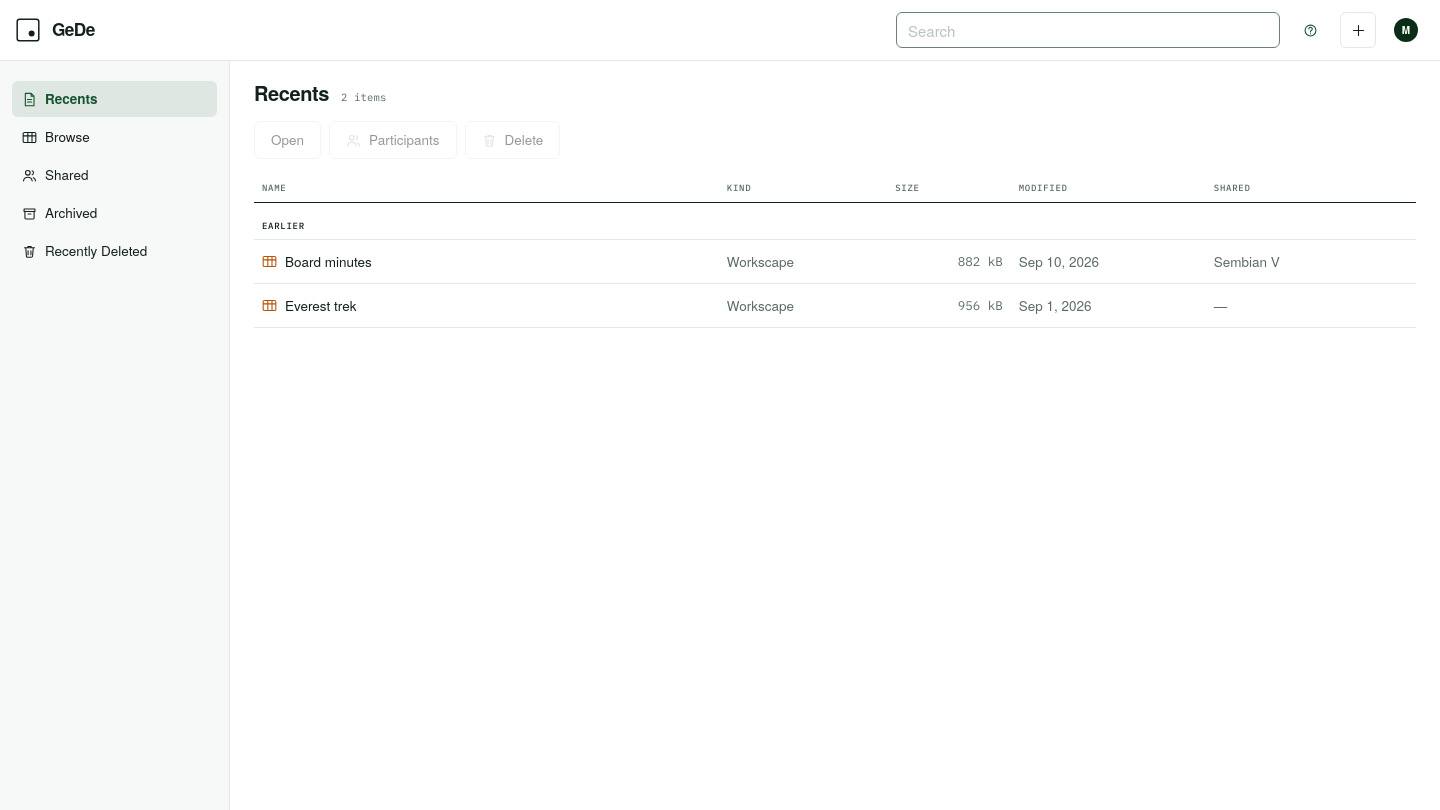
Test case: Library › LIB-03 LIB-04 a search that hides the selected row drops the selection: the count stays honest and the toolbar cannot act on an invisible row
Click the text "Everest trek" at (835, 306), box [254,284,1416,328]
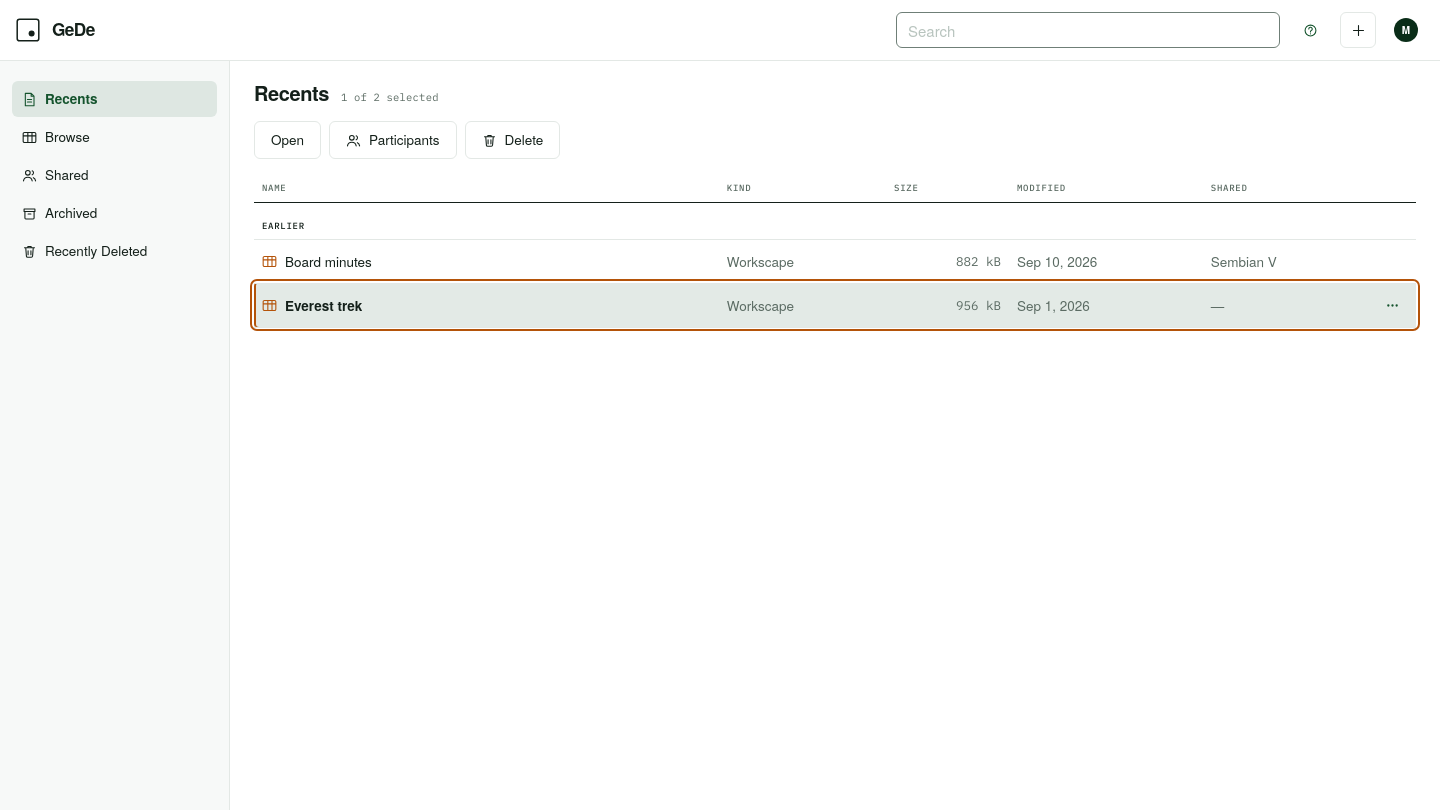
expect the text "1 of 2 selected" is shown: met, box [341,89,439,106]
expect the button "Open" is enabled: met, box [254,121,321,159]
Type "zzz" into the search field named "Search workscapes" at (1088, 30), box [896,12,1280,48]
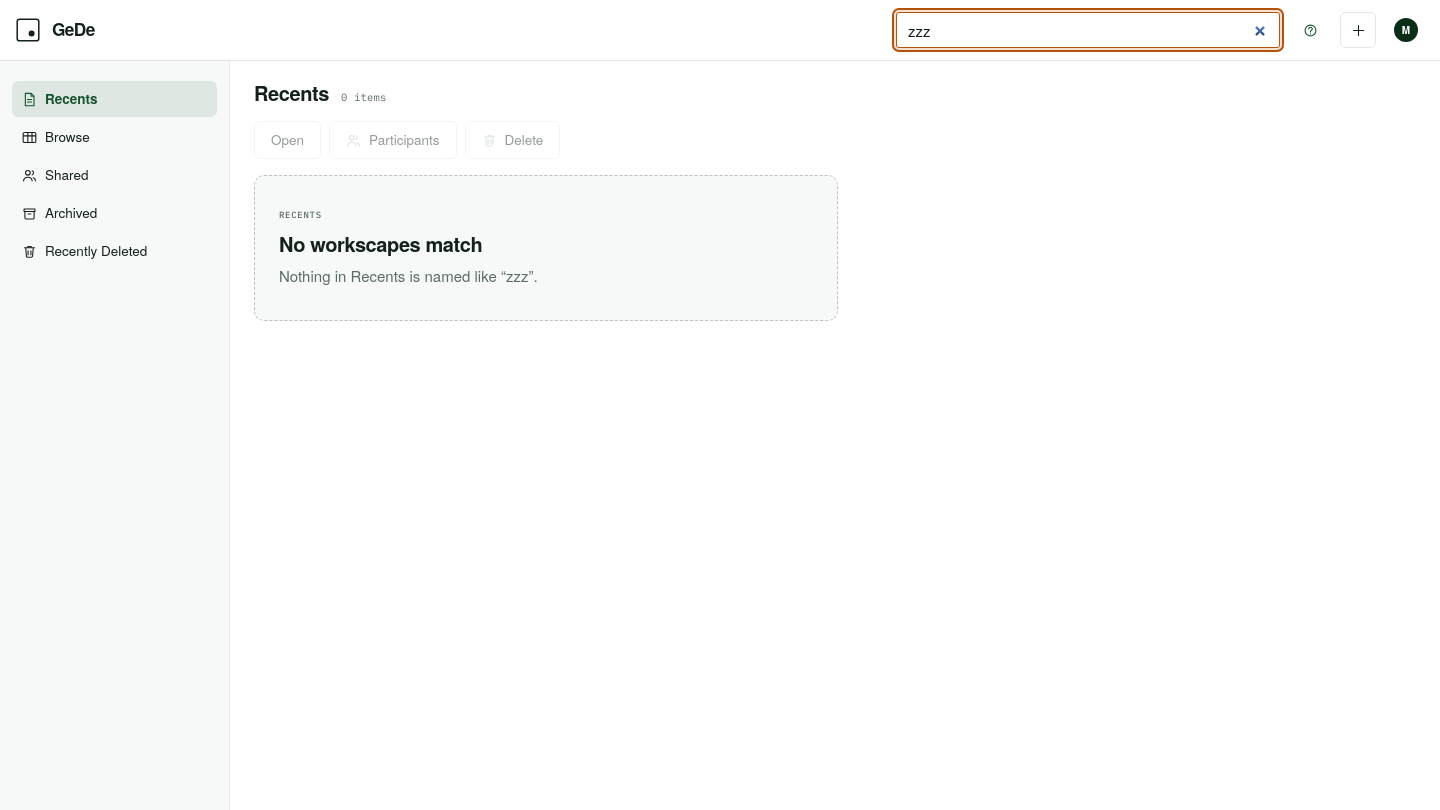
expect the heading "No workscapes match" is shown: met, box [279,231,482,256]
expect the text "0 items" is shown: met, box [341,89,387,106]
expect the button "Open" is disabled: met, box [254,121,321,159]
Clear the search field named "Search workscapes" at (1088, 30), box [896,12,1280,48]
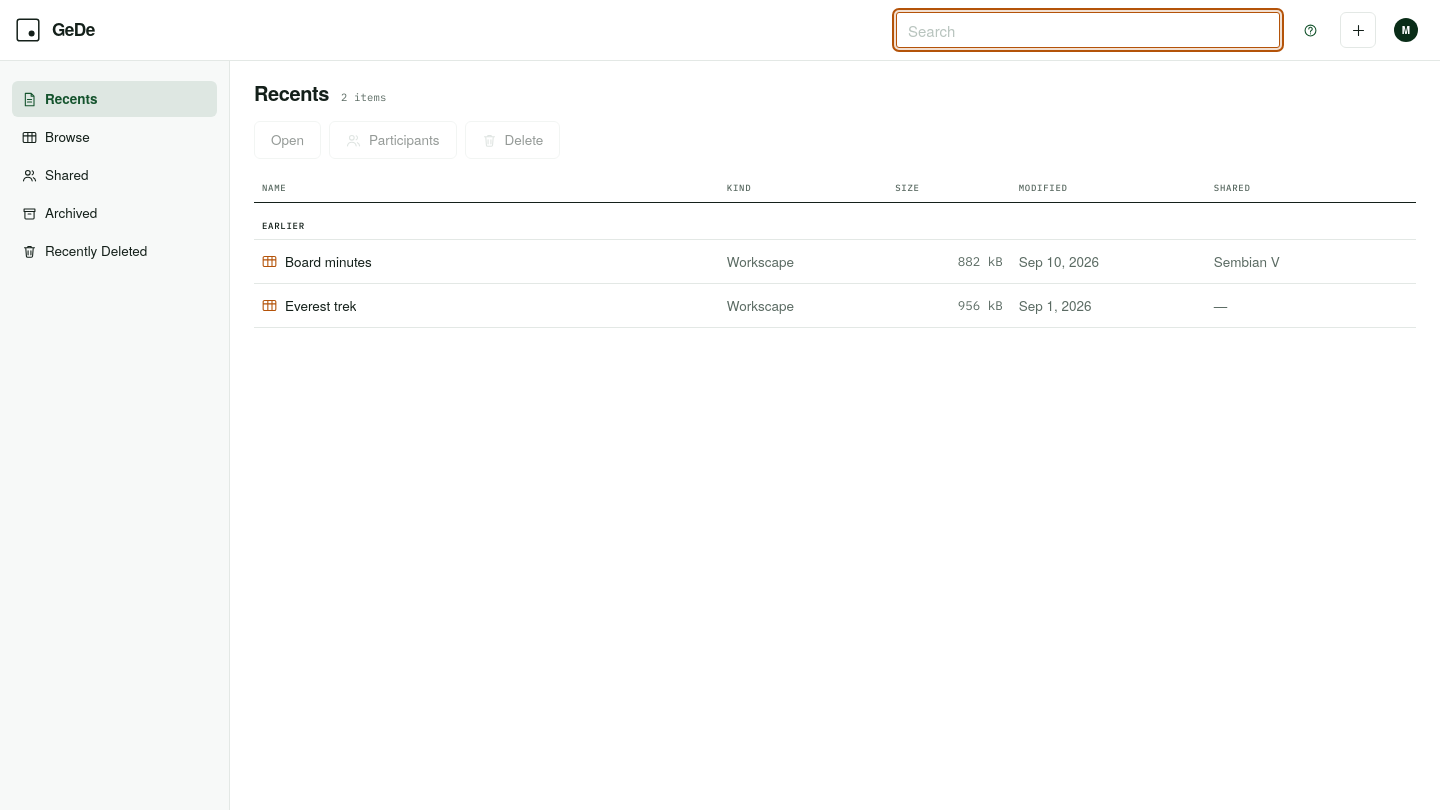
expect the text "2 items" is shown: met, box [341,89,387,106]
Click the text "Everest trek" at (835, 306), box [254,284,1416,328]
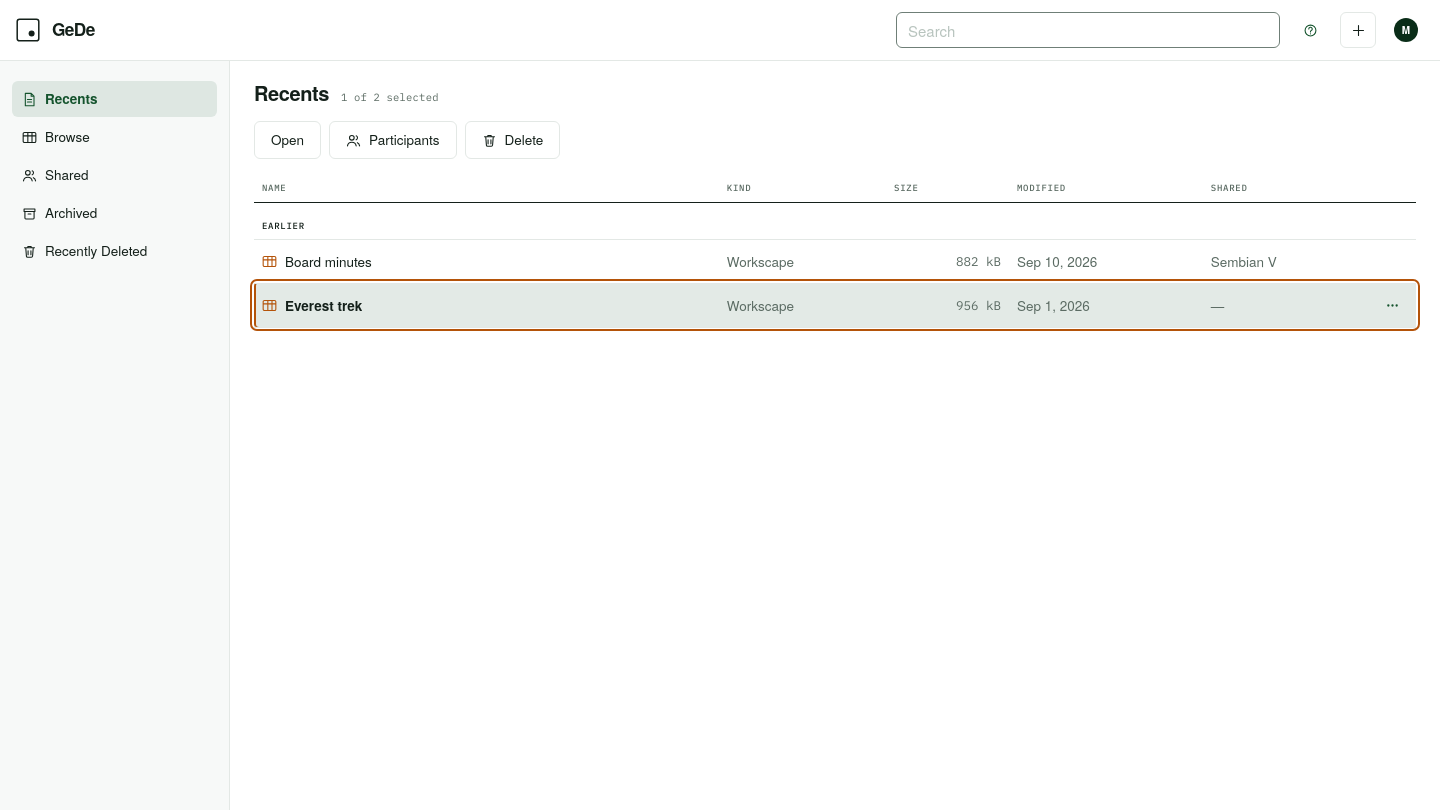
Type "ever" into the search field named "Search workscapes" at (1088, 30), box [896,12,1280,48]
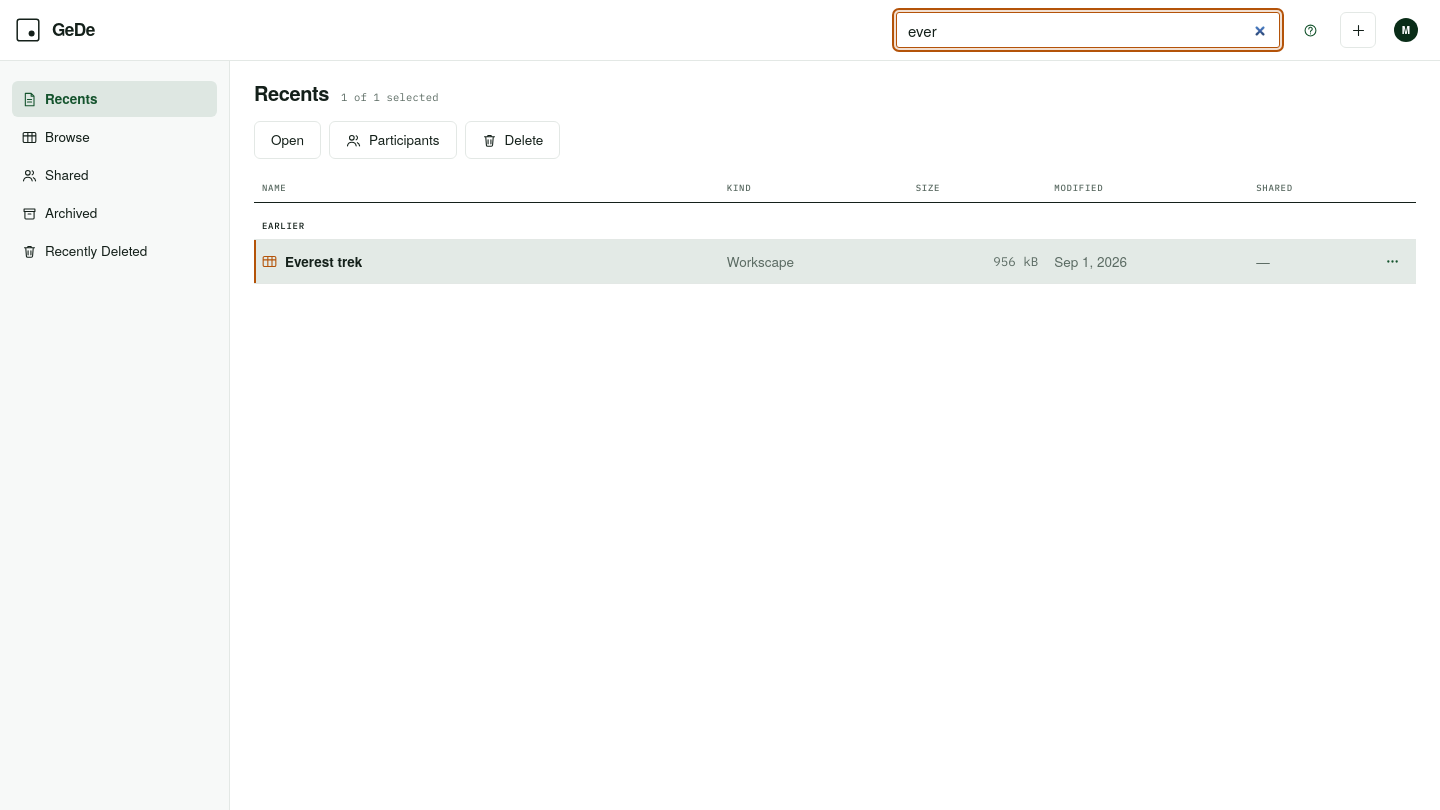
expect the button "Open" is enabled: met, box [254,121,321,159]
expect the text "1 of 1 selected" is shown: met, box [341,89,439,106]
